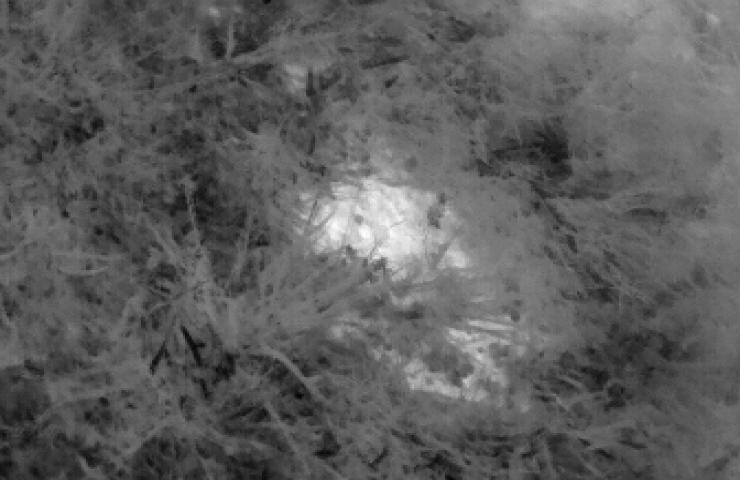landmines: (302, 174, 464, 286)
